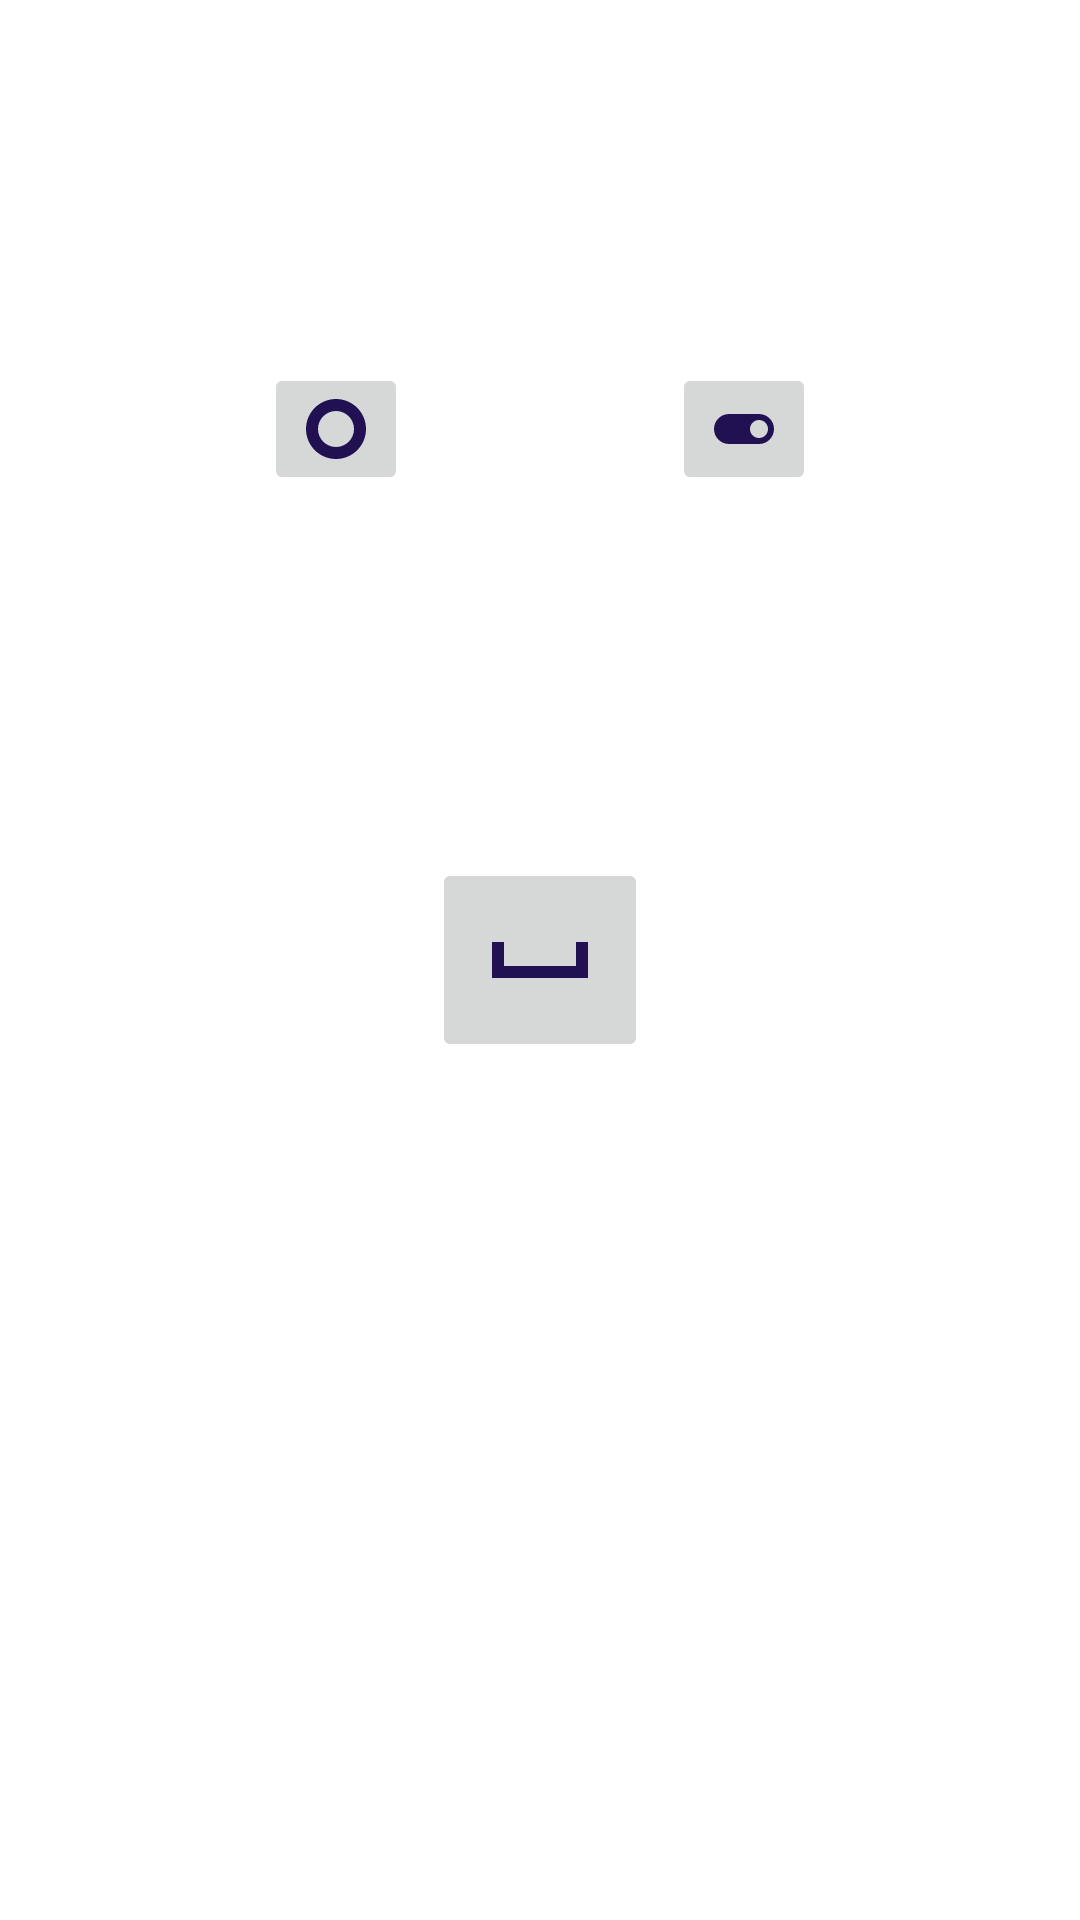

Icon click points for this 1080x1920 phone screenshot, format [x,y]:
space: [540,960]
